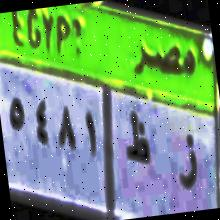1: (80, 102, 103, 164)
4: (30, 92, 55, 165)
5: (2, 89, 31, 150)
8: (55, 108, 80, 160)
Thaa: (120, 109, 154, 173)
zay: (172, 126, 203, 198)
